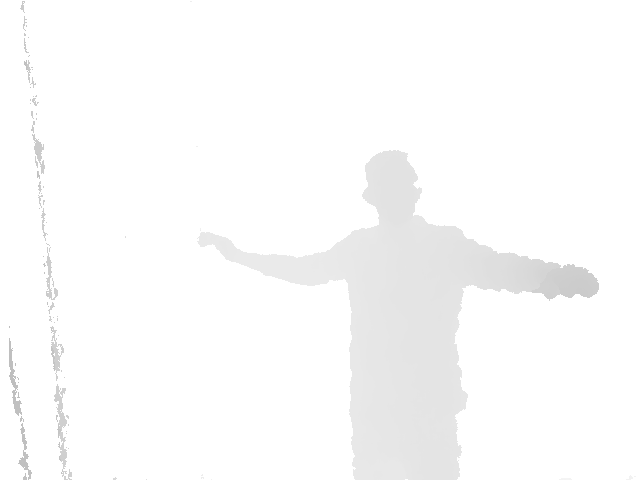head: (361, 150, 423, 217)
person: (198, 150, 599, 480)
